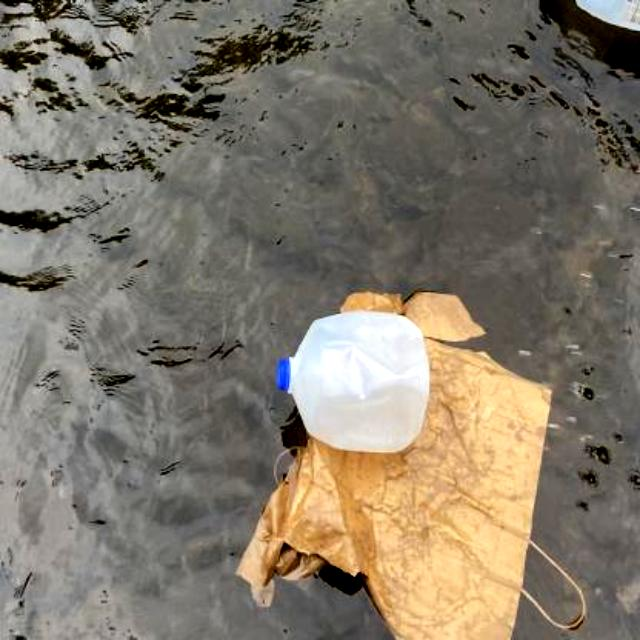Paper: (230, 278, 604, 640)
Plastic: (268, 303, 432, 461), (566, 0, 639, 42)
